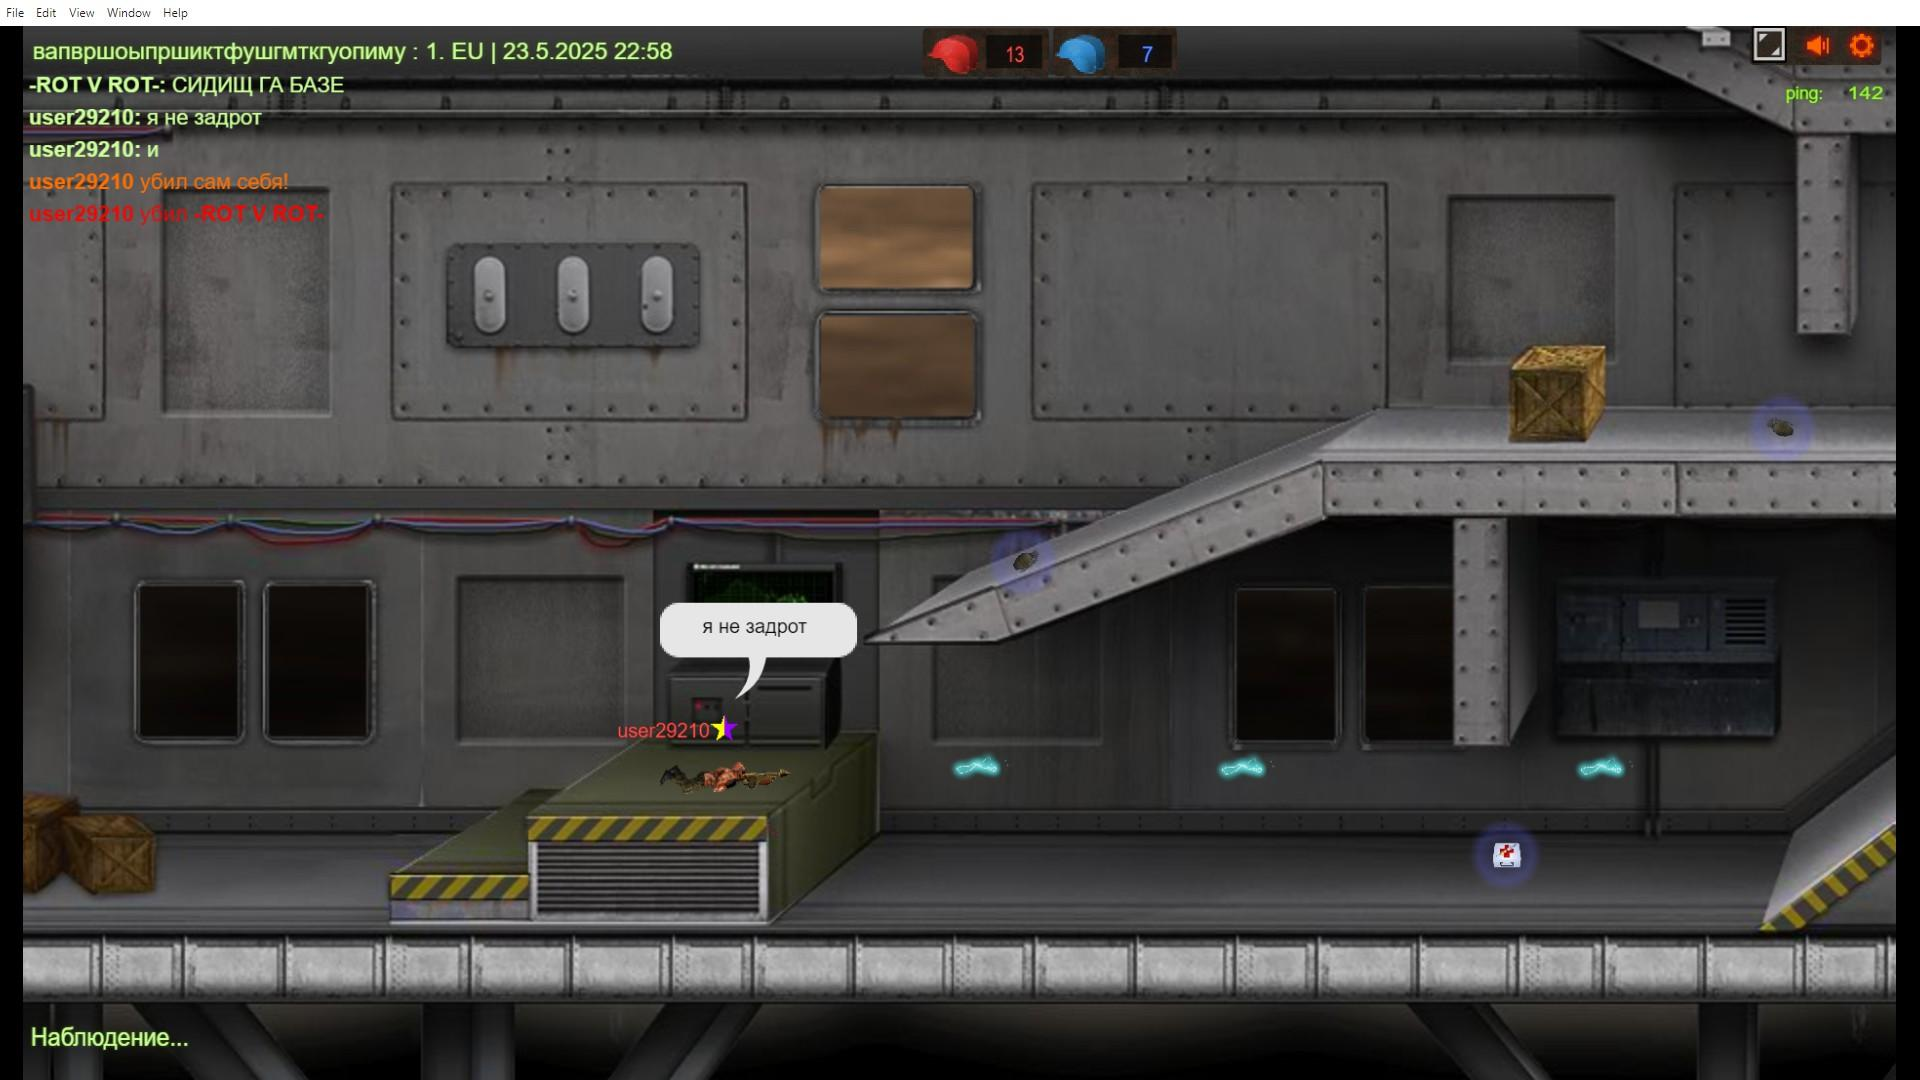enemy: (660, 754, 793, 799)
